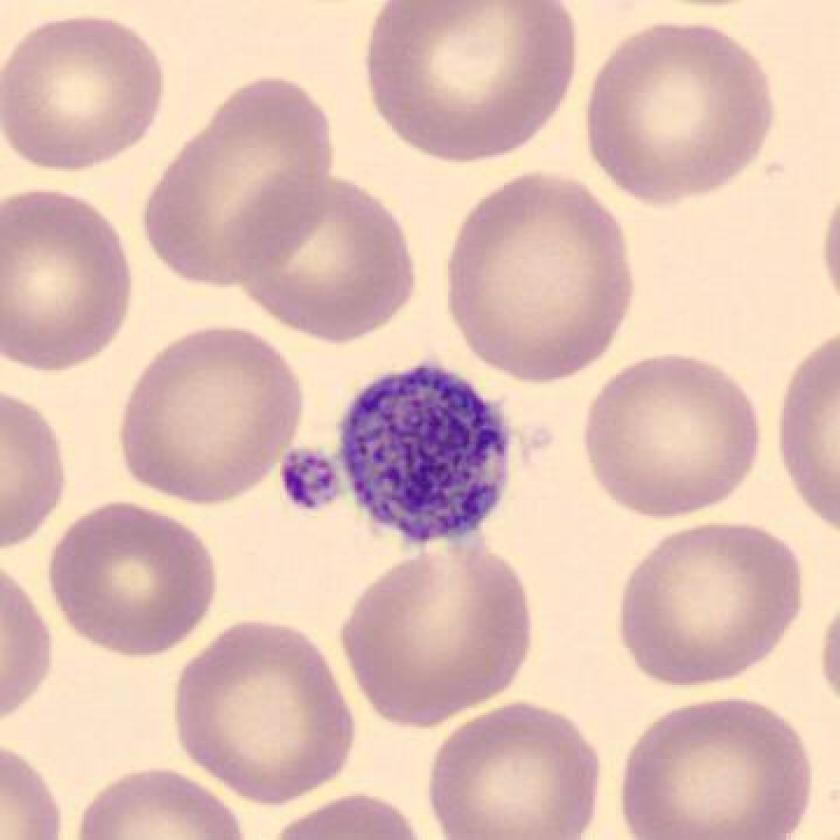platelets: (332, 350, 524, 559), (269, 438, 351, 524)
